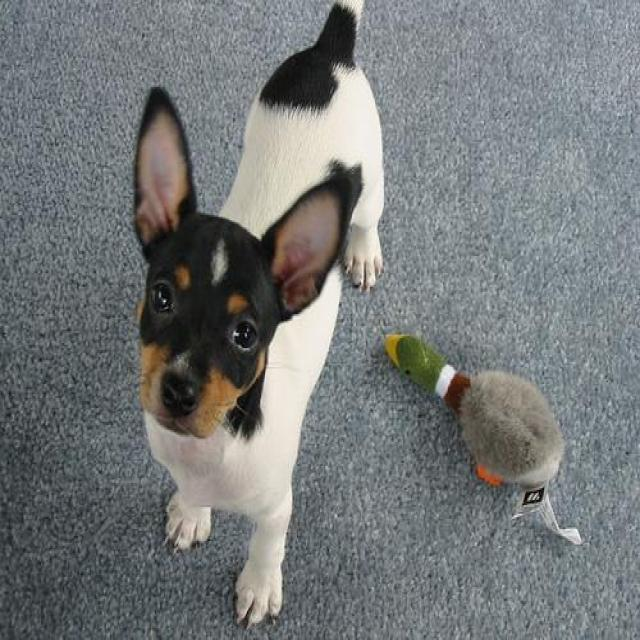toy_terrier: (132, 2, 388, 630)
